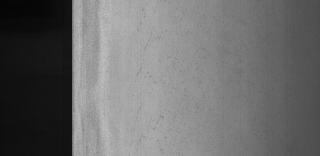silk spot: (127, 19, 219, 128)
